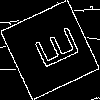E: (25, 24, 81, 75)
